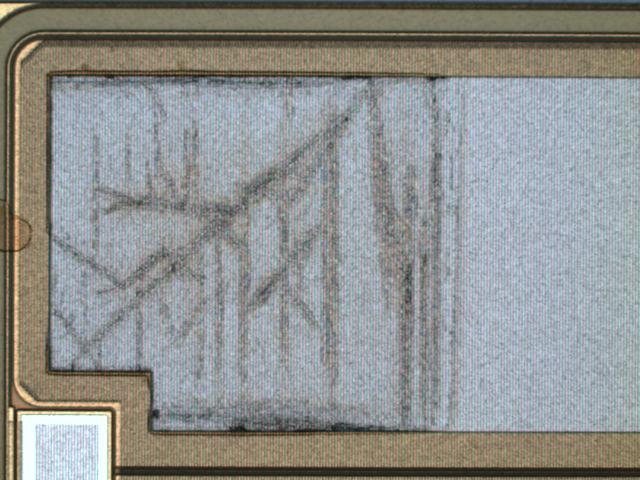SEZ BURNT: (49, 73, 472, 435)
